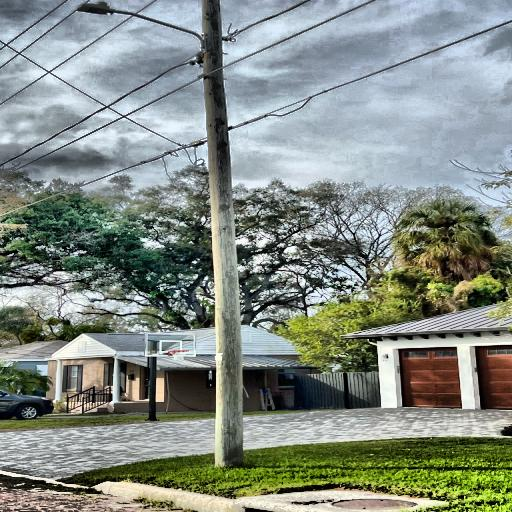pole: (195, 0, 249, 470)
street light: (74, 0, 208, 53)
